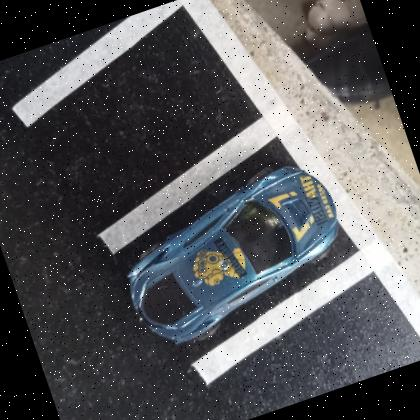Car: (125, 161, 339, 343)
